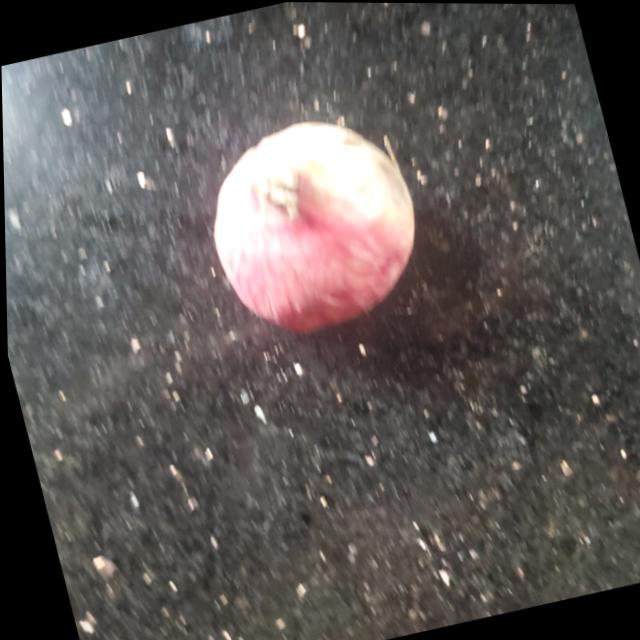onion: (188, 98, 435, 344)
